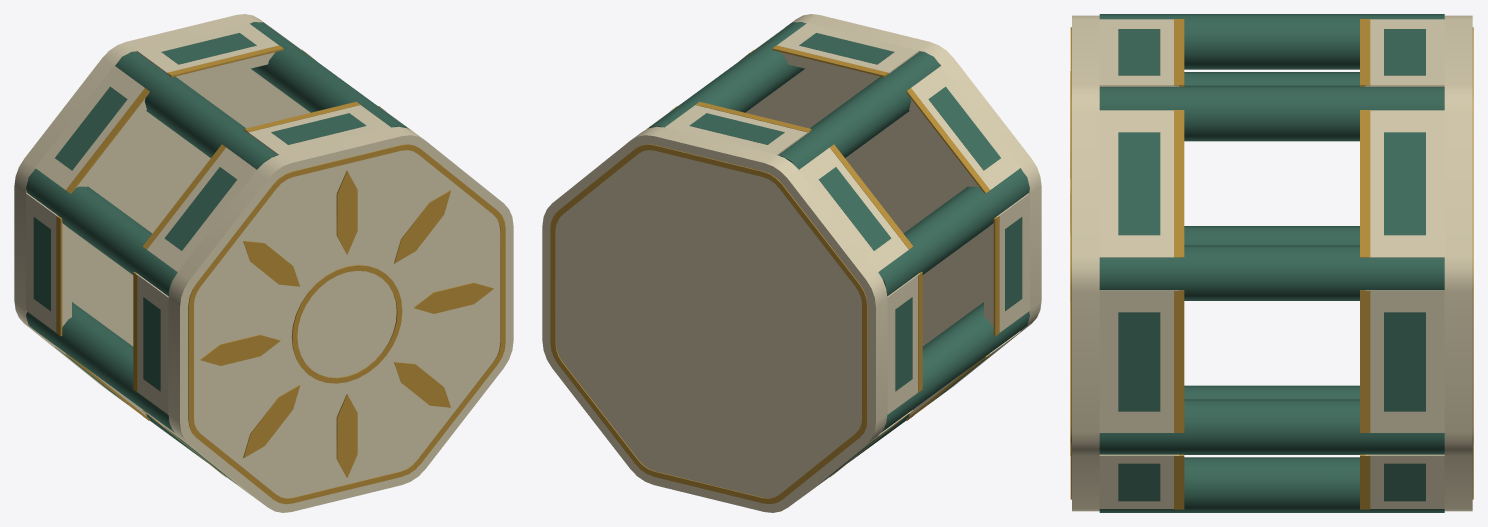
The model's file is h5_housing.obj.
The picture shows the model from 3 angles, left to right: view 1: azimuth 30°, elevation 25°; view 2: azimuth 150°, elevation 25°; view 3: azimuth 270°, elevation 25°; orthographic projection. The views are drawn at different scales.
Parts seen in each view (by area): view 1: h5_housing; view 2: h5_housing; view 3: h5_housing.
Part boxes in pixels (x1=…): h5_housing: x1=14, y1=14, x2=513, y2=512; h5_housing: x1=542, y1=14, x2=1041, y2=512; h5_housing: x1=1070, y1=14, x2=1473, y2=512.
Bounding box in the file's own units: 2.48 × 2.48 × 2.14.
